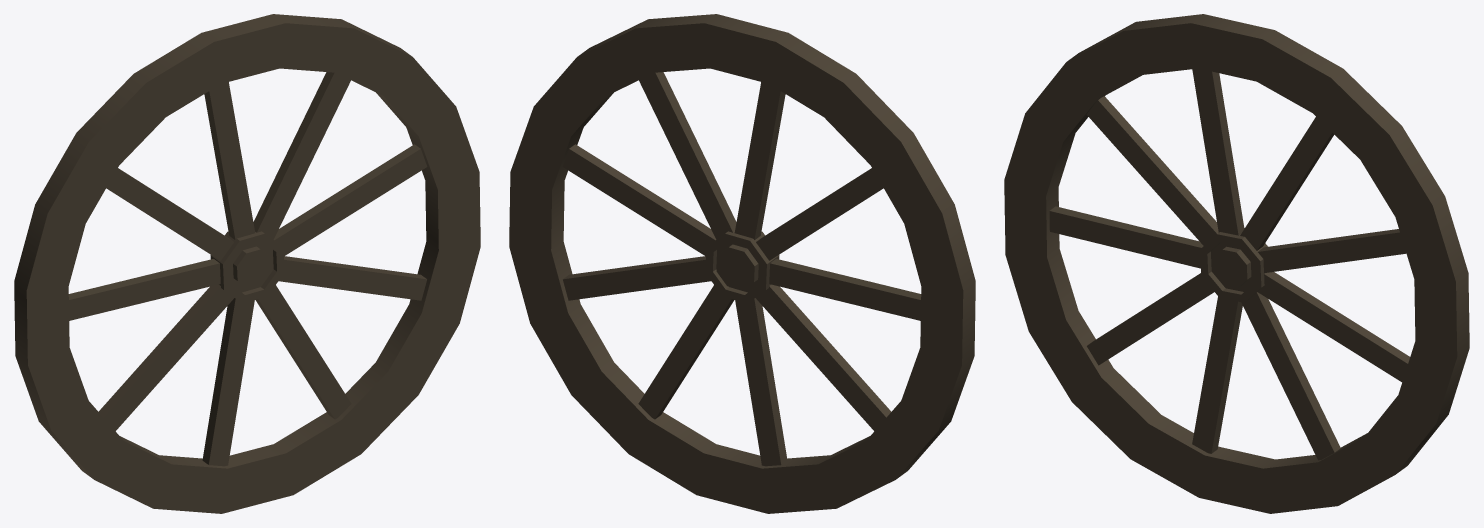
File: wheel.fbx
3 renders of one model, left to right at view 1: azimuth 30°, elevation 25°; view 2: azimuth 150°, elevation 25°; view 3: azimuth 330°, elevation 25°, orthographic.
Visible parts, largest first — view 1: wheel; view 2: wheel; view 3: wheel.
Part boxes in pixels (bbox=[...]): wheel: bbox=[14, 14, 480, 513]; wheel: bbox=[509, 14, 975, 513]; wheel: bbox=[1004, 14, 1469, 513].
Bounding box in the file's own units: 92.21 × 92.21 × 4.79.
